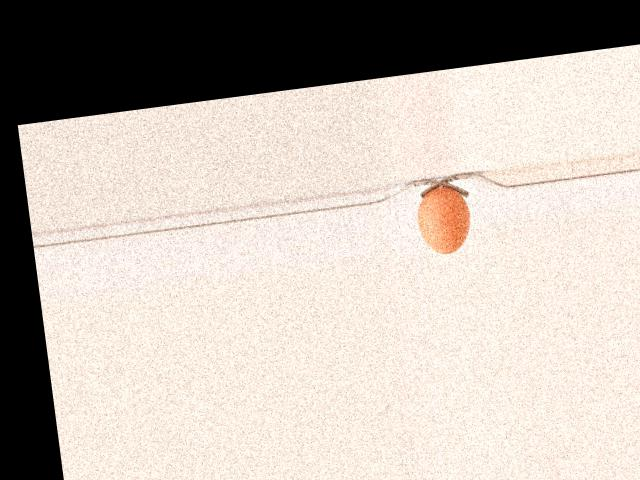egg: (413, 184, 473, 256)
